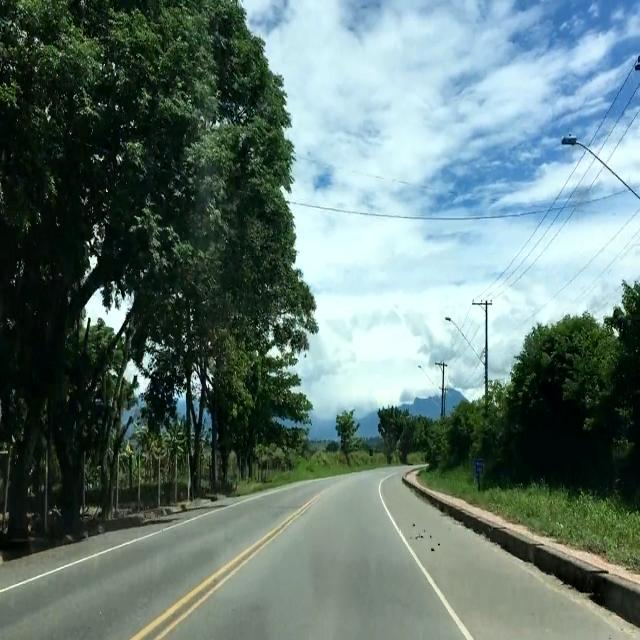lane: (126, 488, 326, 640), (377, 476, 479, 640), (0, 529, 168, 593), (168, 516, 205, 528)
road: (0, 467, 640, 638)
